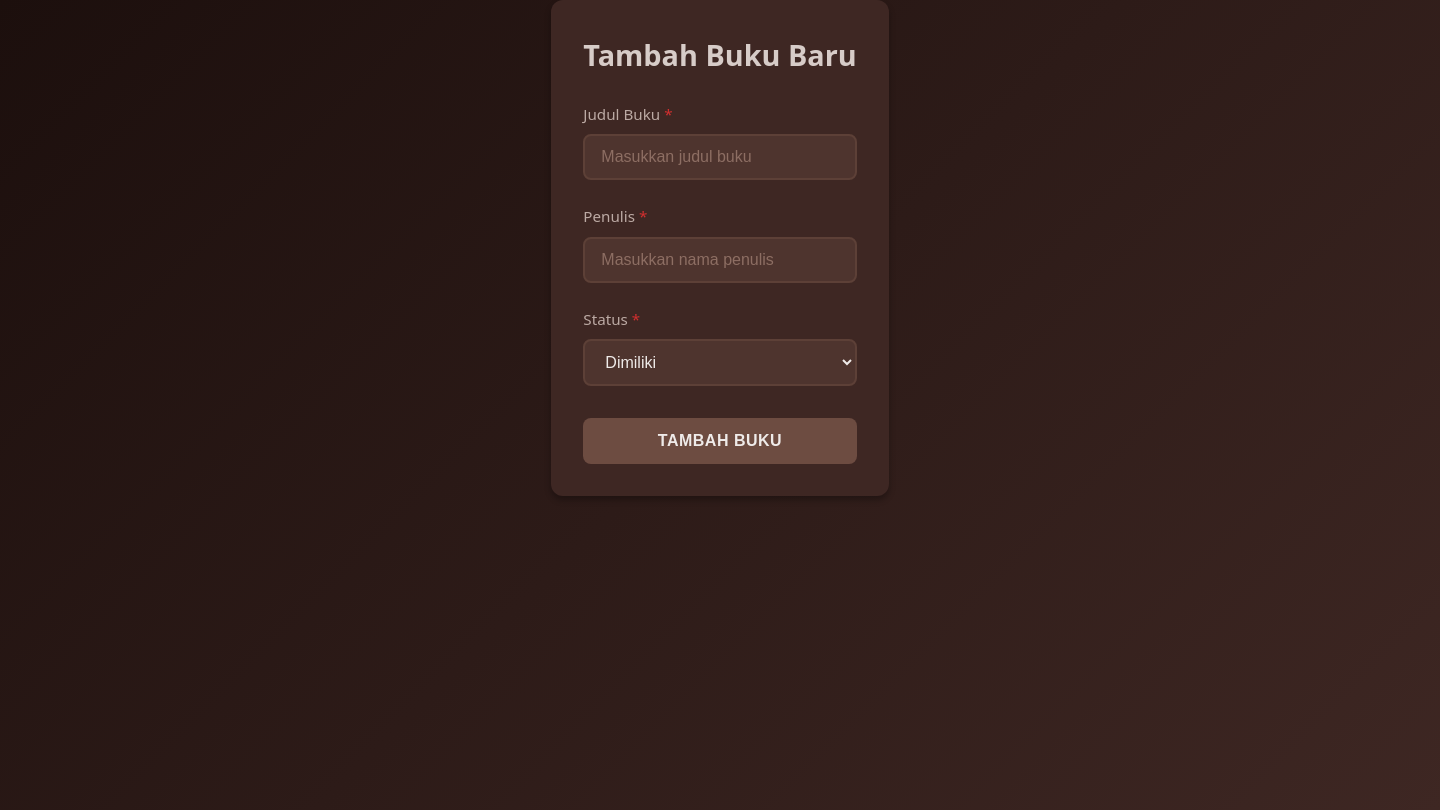
BookForm Component › shows validation errors when submitting empty form
Click the button "Tambah Buku" at [720, 441], box [583,418,857,464]
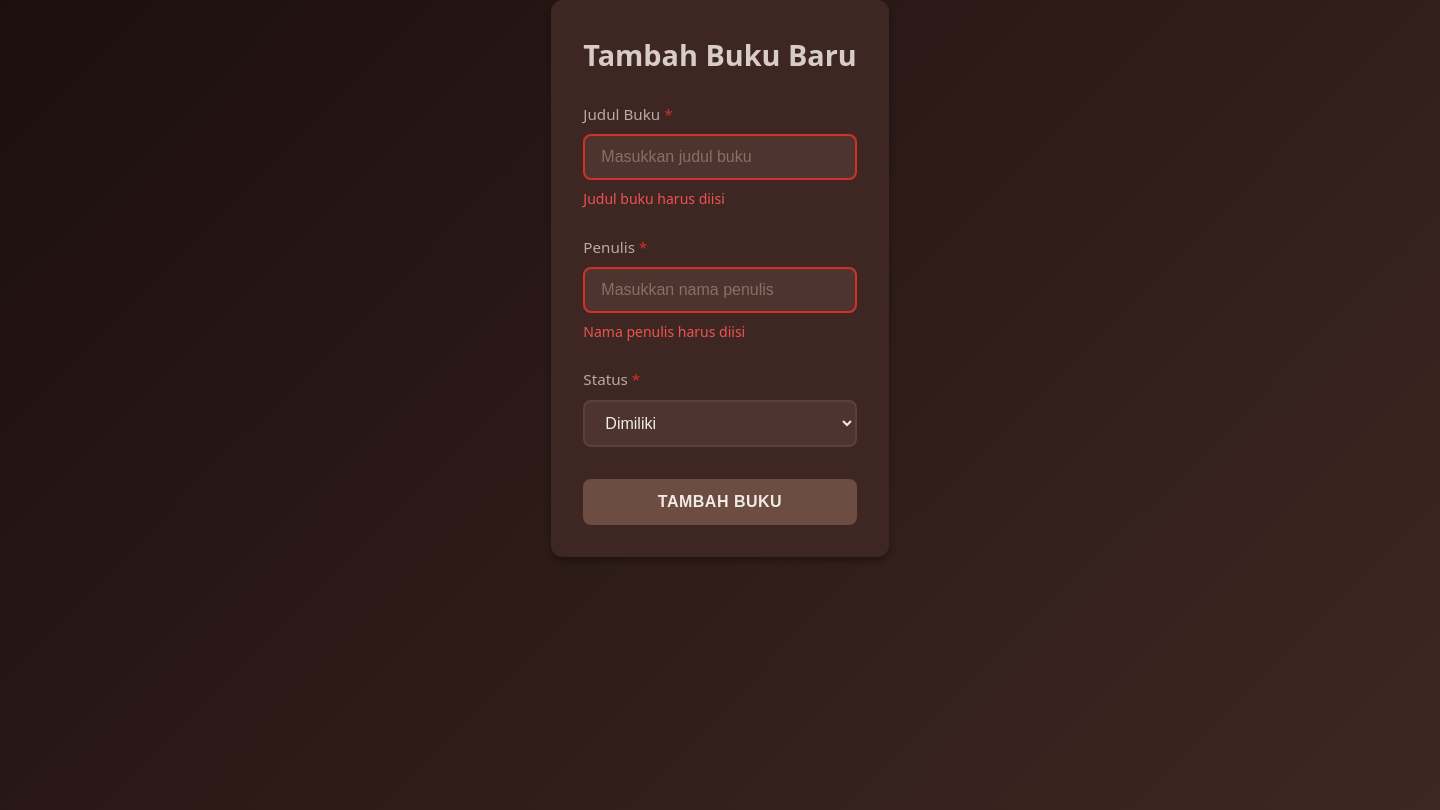
Expected: the text "Judul buku harus diisi" is shown, [583,189,725,208]
Expected: the text "Nama penulis harus diisi" is shown, [583,322,745,341]
